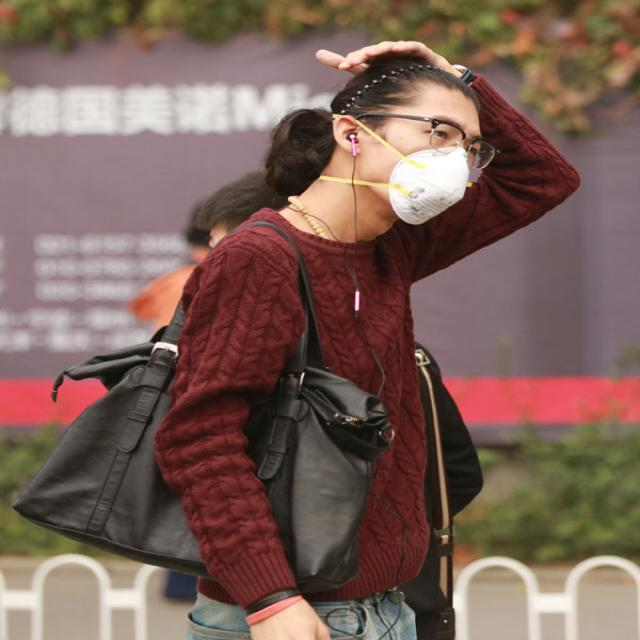mask: (365, 78, 486, 226)
